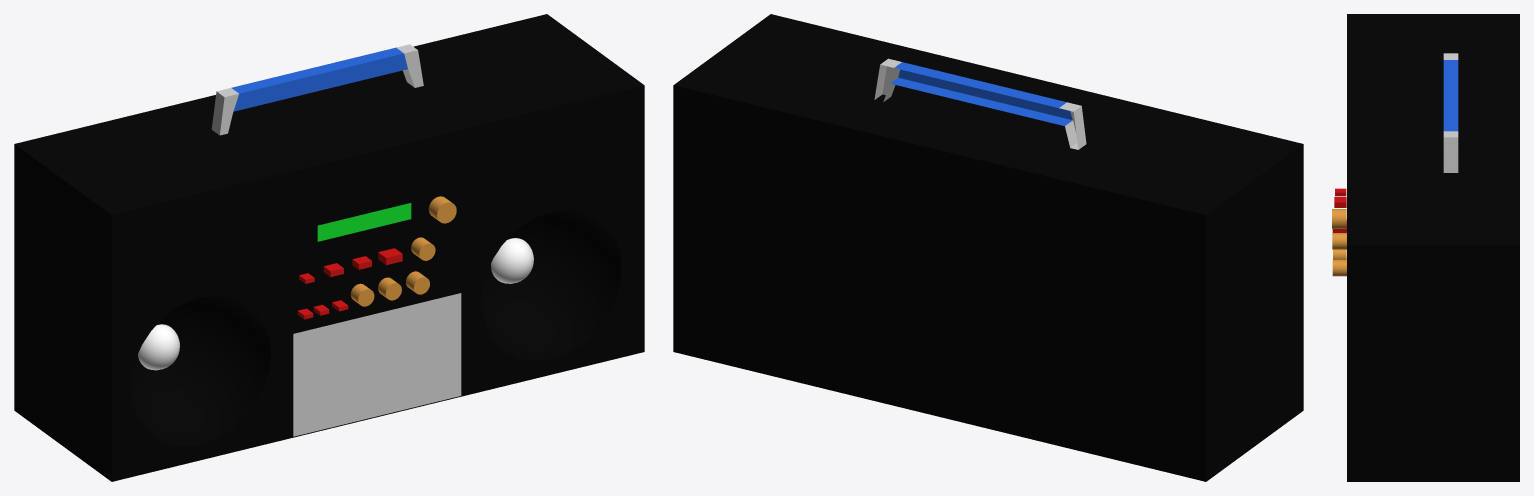
The model's file is Base Trop poly.FBX.
3 views of the same model, side by side, from view 1: azimuth 30°, elevation 25°; view 2: azimuth 150°, elevation 25°; view 3: azimuth 270°, elevation 25° (orthographic). The views are drawn at different scales.
Visible parts, largest first — view 1: Sphere003; view 2: Sphere003; view 3: Sphere003.
Part boxes in pixels (x1,y1,x2,y2): Sphere003: (14,14,644,481); Sphere003: (673,14,1303,481); Sphere003: (1332,14,1519,481).
Size of the model in its own units: 36.94 by 20.14 by 12.7.
